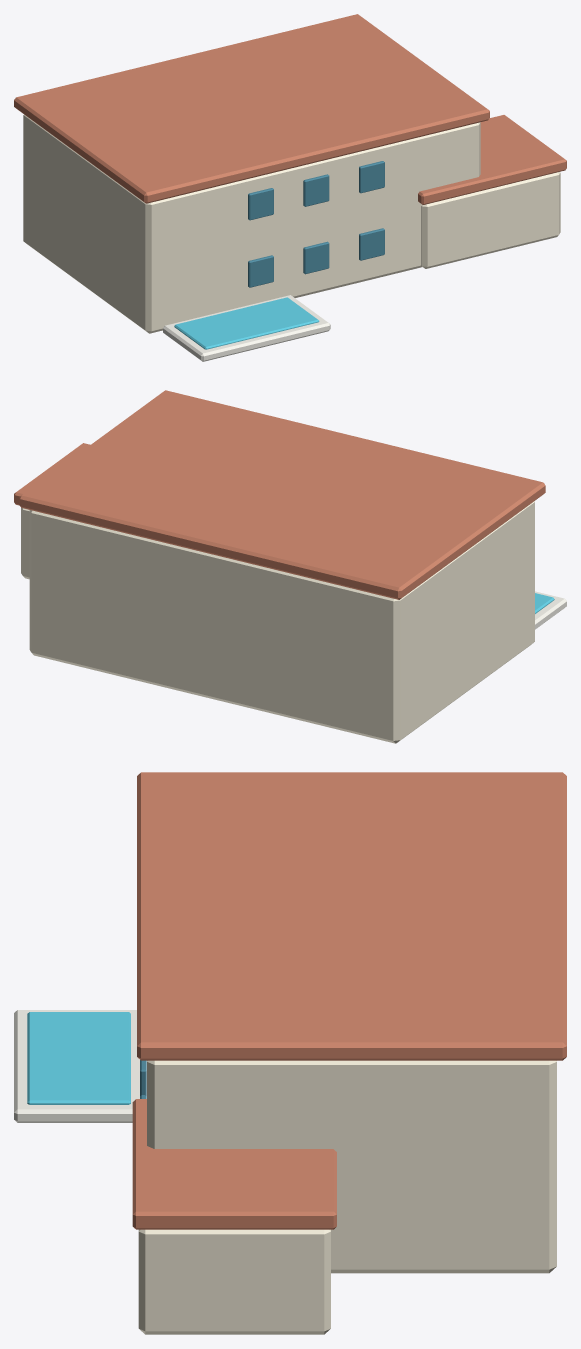
The model's file is RES_LUX_3x2_004.glb.
3 views of the same model, one above another, from view 1: azimuth 30°, elevation 25°; view 2: azimuth 150°, elevation 25°; view 3: azimuth 270°, elevation 25° (orthographic). The views are drawn at different scales.
Visible parts, largest first — view 1: RES_LUX_3x2_004_Visual; view 2: RES_LUX_3x2_004_Visual; view 3: RES_LUX_3x2_004_Visual.
Part boxes in pixels (<box>): RES_LUX_3x2_004_Visual: <box>14,14,566,361</box>; RES_LUX_3x2_004_Visual: <box>14,390,566,743</box>; RES_LUX_3x2_004_Visual: <box>14,772,566,1334</box>.
Size of what is drawn, in the model's own units: 4.71 by 1.56 by 3.3.
